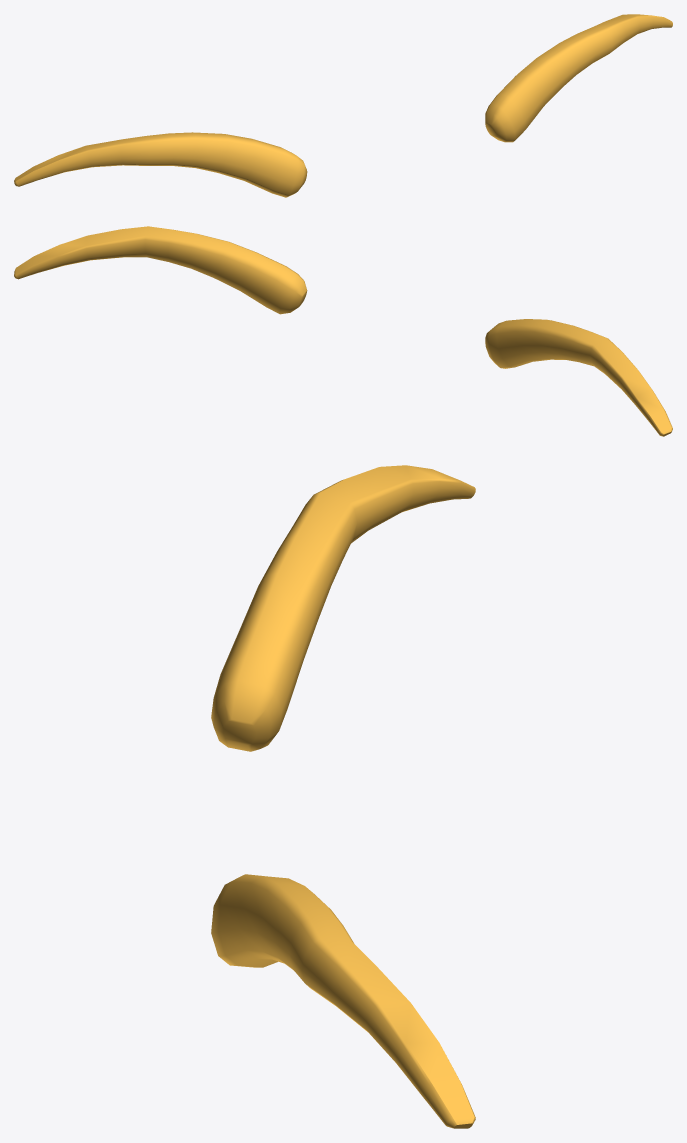
File: Eyebrows_30_05.fbx
3 renders of one model, top to bottom at view 1: azimuth 30°, elevation 25°; view 2: azimuth 150°, elevation 25°; view 3: azimuth 270°, elevation 25°, orthographic. The views are drawn at different scales.
Parts seen in each view (by area): view 1: Eyebrows_30_05; view 2: Eyebrows_30_05; view 3: Eyebrows_30_05.
Part boxes in pixels (x1,y1,x2,y2): Eyebrows_30_05: (14, 14, 672, 197); Eyebrows_30_05: (14, 226, 672, 436); Eyebrows_30_05: (211, 465, 475, 1128).
Bounding box in the file's own units: 19.88 × 2.07 × 3.47.
